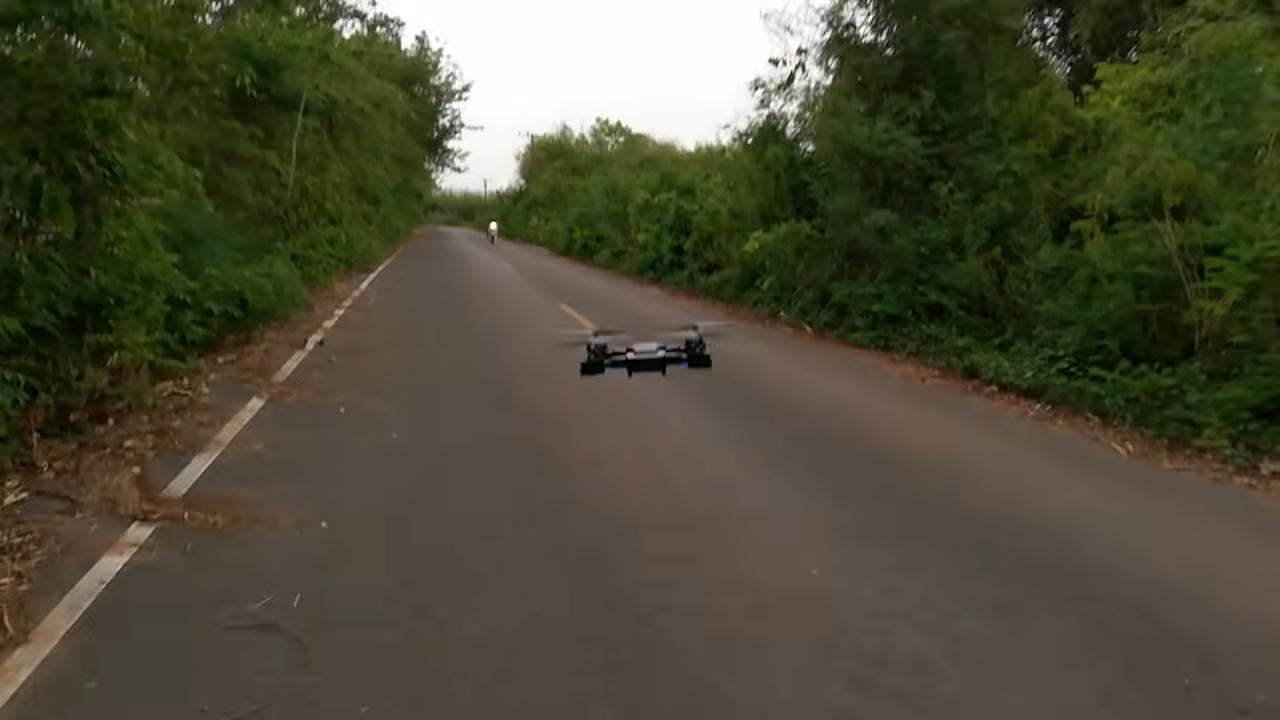Drone: (537, 313, 755, 390)
